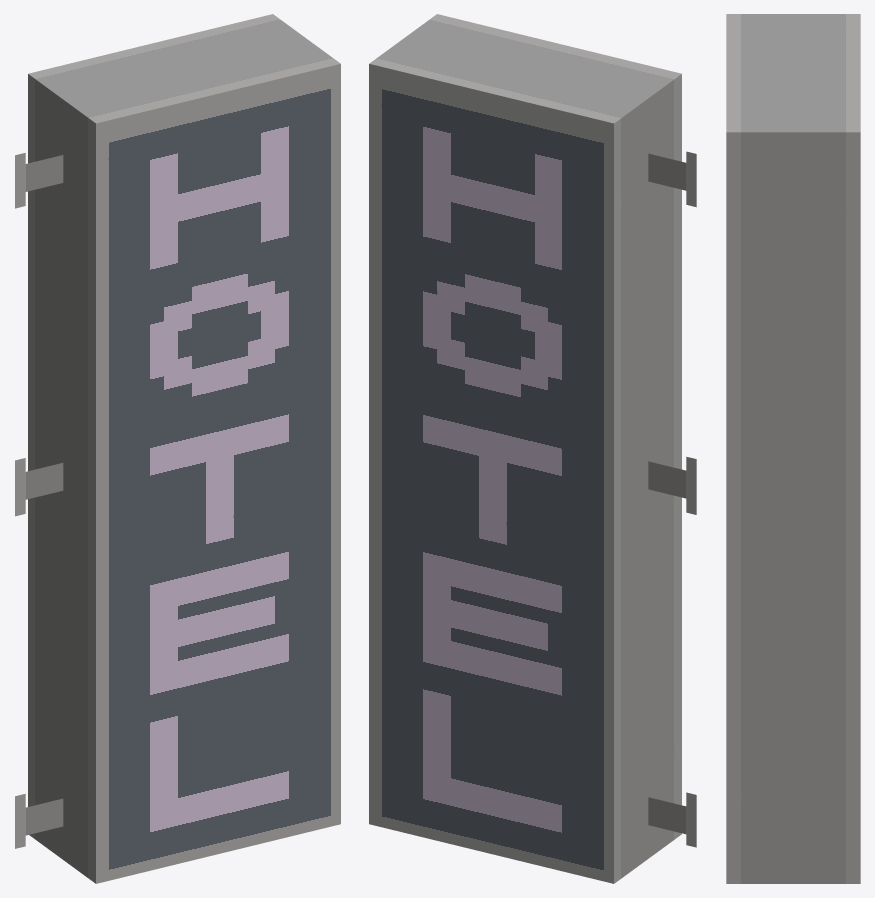
Rendered from 0168_Hotel_Sign.glb.
3 views of the same model, side by side, from view 1: azimuth 30°, elevation 25°; view 2: azimuth 150°, elevation 25°; view 3: azimuth 270°, elevation 25° (orthographic).
Visible parts, largest first — view 1: part_0; view 2: part_0; view 3: part_0.
Part boxes in pixels (bbox=[...]): part_0: bbox=[15, 14, 340, 883]; part_0: bbox=[369, 14, 696, 883]; part_0: bbox=[726, 14, 860, 883].
Size of the model in its own units: 2.85 by 7.05 by 1.14.
1 material, 1 textured.
